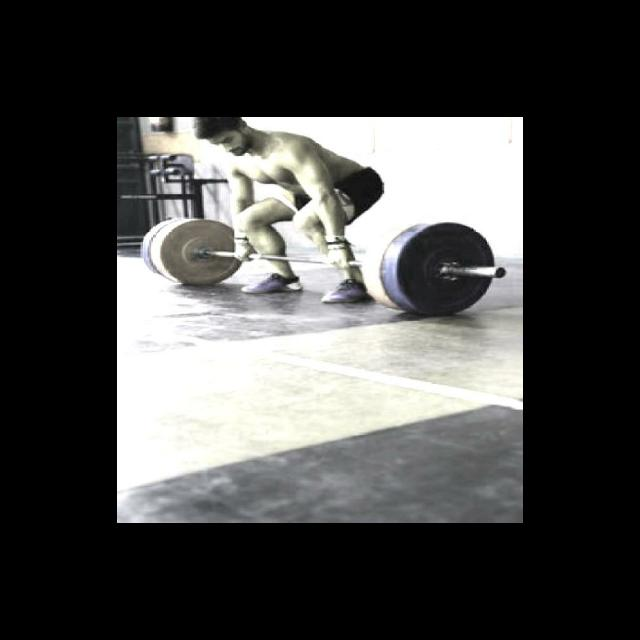barbell: (391, 219, 513, 321)
